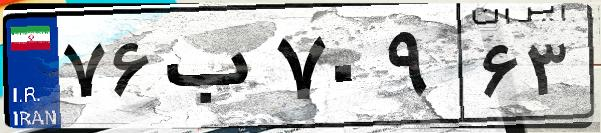0: (330, 28, 385, 110)
3: (525, 38, 570, 115)
6: (475, 38, 525, 113), (110, 28, 158, 98)
7: (270, 28, 330, 110), (57, 26, 110, 100)
9: (385, 28, 445, 110)
ب: (158, 20, 270, 120)
